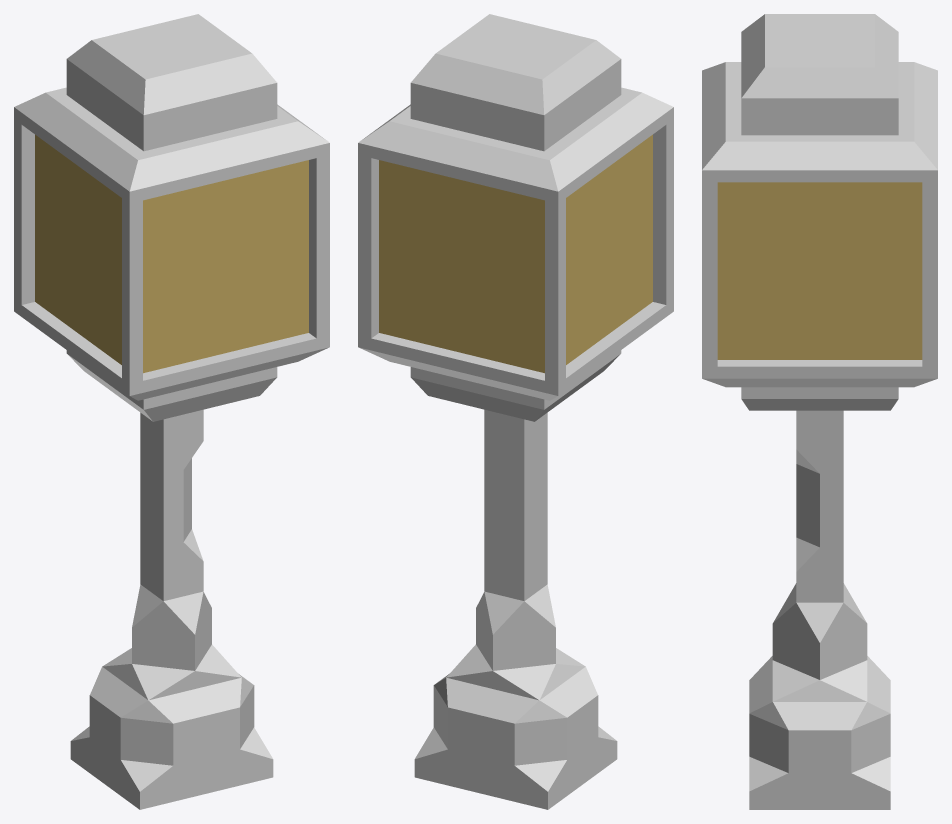
The model's file is lampe_rampe.fbx.
3 views of the same model, side by side, from view 1: azimuth 30°, elevation 25°; view 2: azimuth 150°, elevation 25°; view 3: azimuth 270°, elevation 25° (orthographic). The views are drawn at different scales.
Parts seen in each view (by area): view 1: Cube.013; view 2: Cube.013; view 3: Cube.013.
Part boxes in pixels (x1,y1,x2,y2): Cube.013: (14, 14, 329, 809); Cube.013: (358, 14, 673, 809); Cube.013: (702, 14, 937, 809).
Size of the model in its own units: 0.012 by 0.0413 by 0.012.
